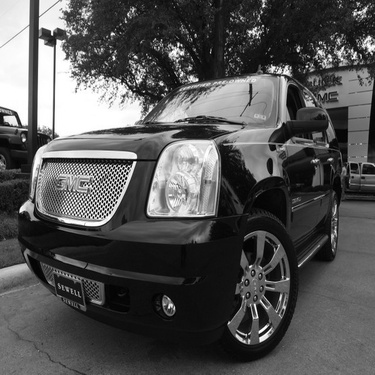car: (1, 59, 344, 351), (1, 100, 57, 151), (336, 161, 375, 187)
